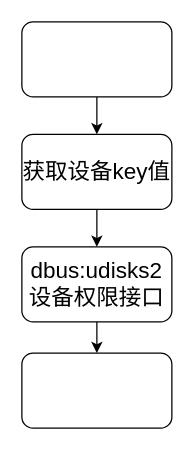
Image size: 194x450. Some labels were removed from this diagram. The shapes that lost their labels are listed below. From the top down, each one's box as (x1, y1, x2, y2) in pixels, then its label:
(21, 21, 172, 97): 设备连接
(21, 352, 172, 428): 挂载操作（只读/读写/拒绝）
